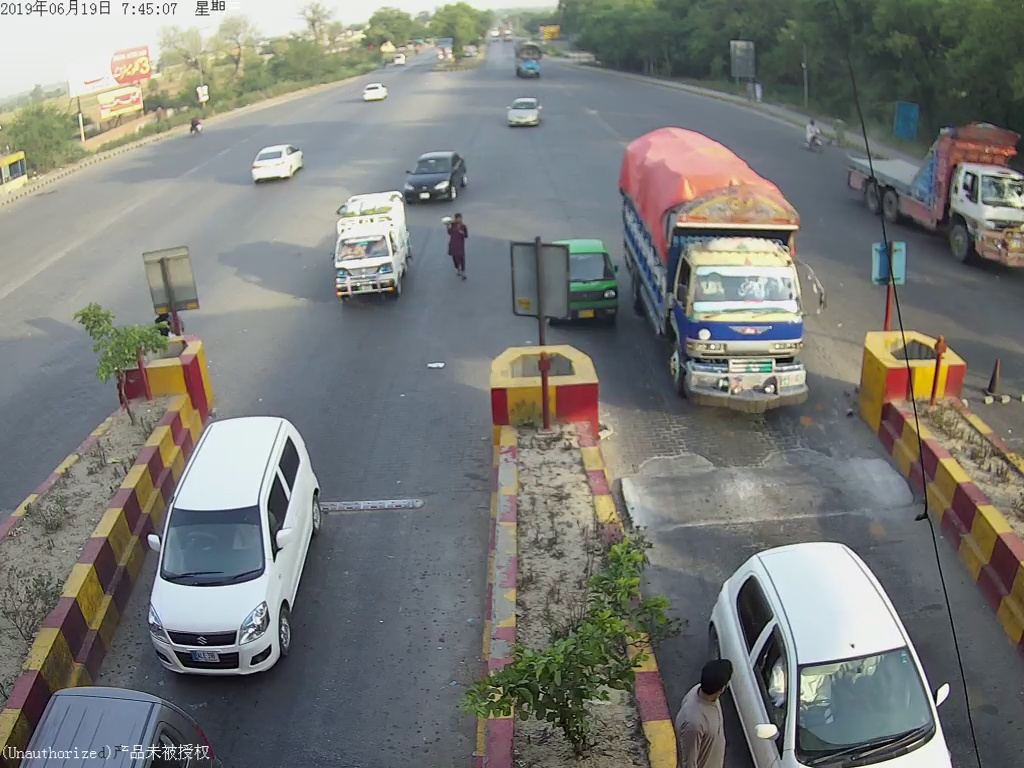Cat-1: (145, 415, 331, 681), (334, 198, 409, 297), (567, 234, 623, 331), (399, 147, 465, 207)
Cat-4: (631, 131, 828, 417)
